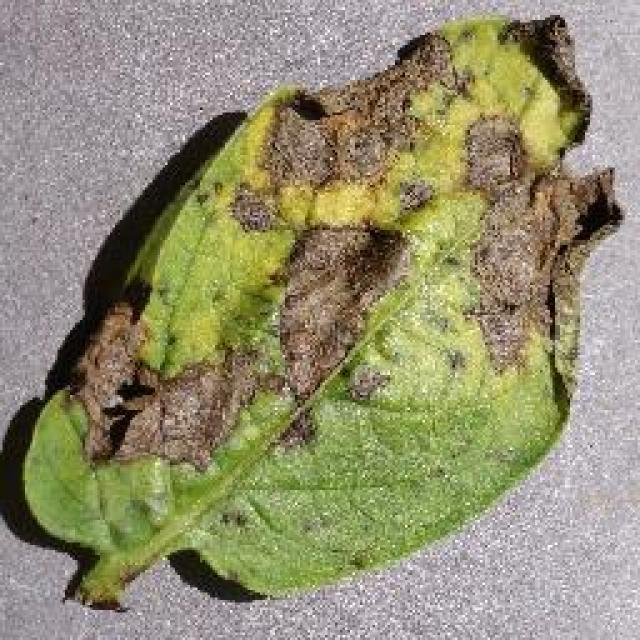early_blight: (17, 10, 625, 610)
